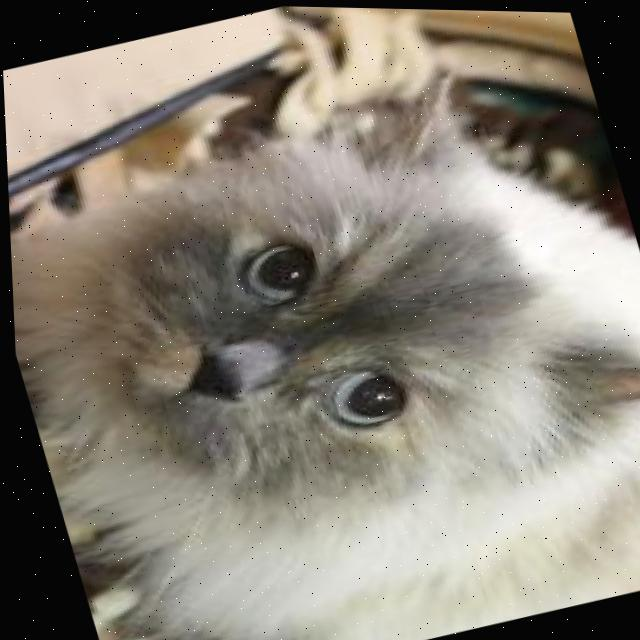Birman: (1, 19, 640, 640)
